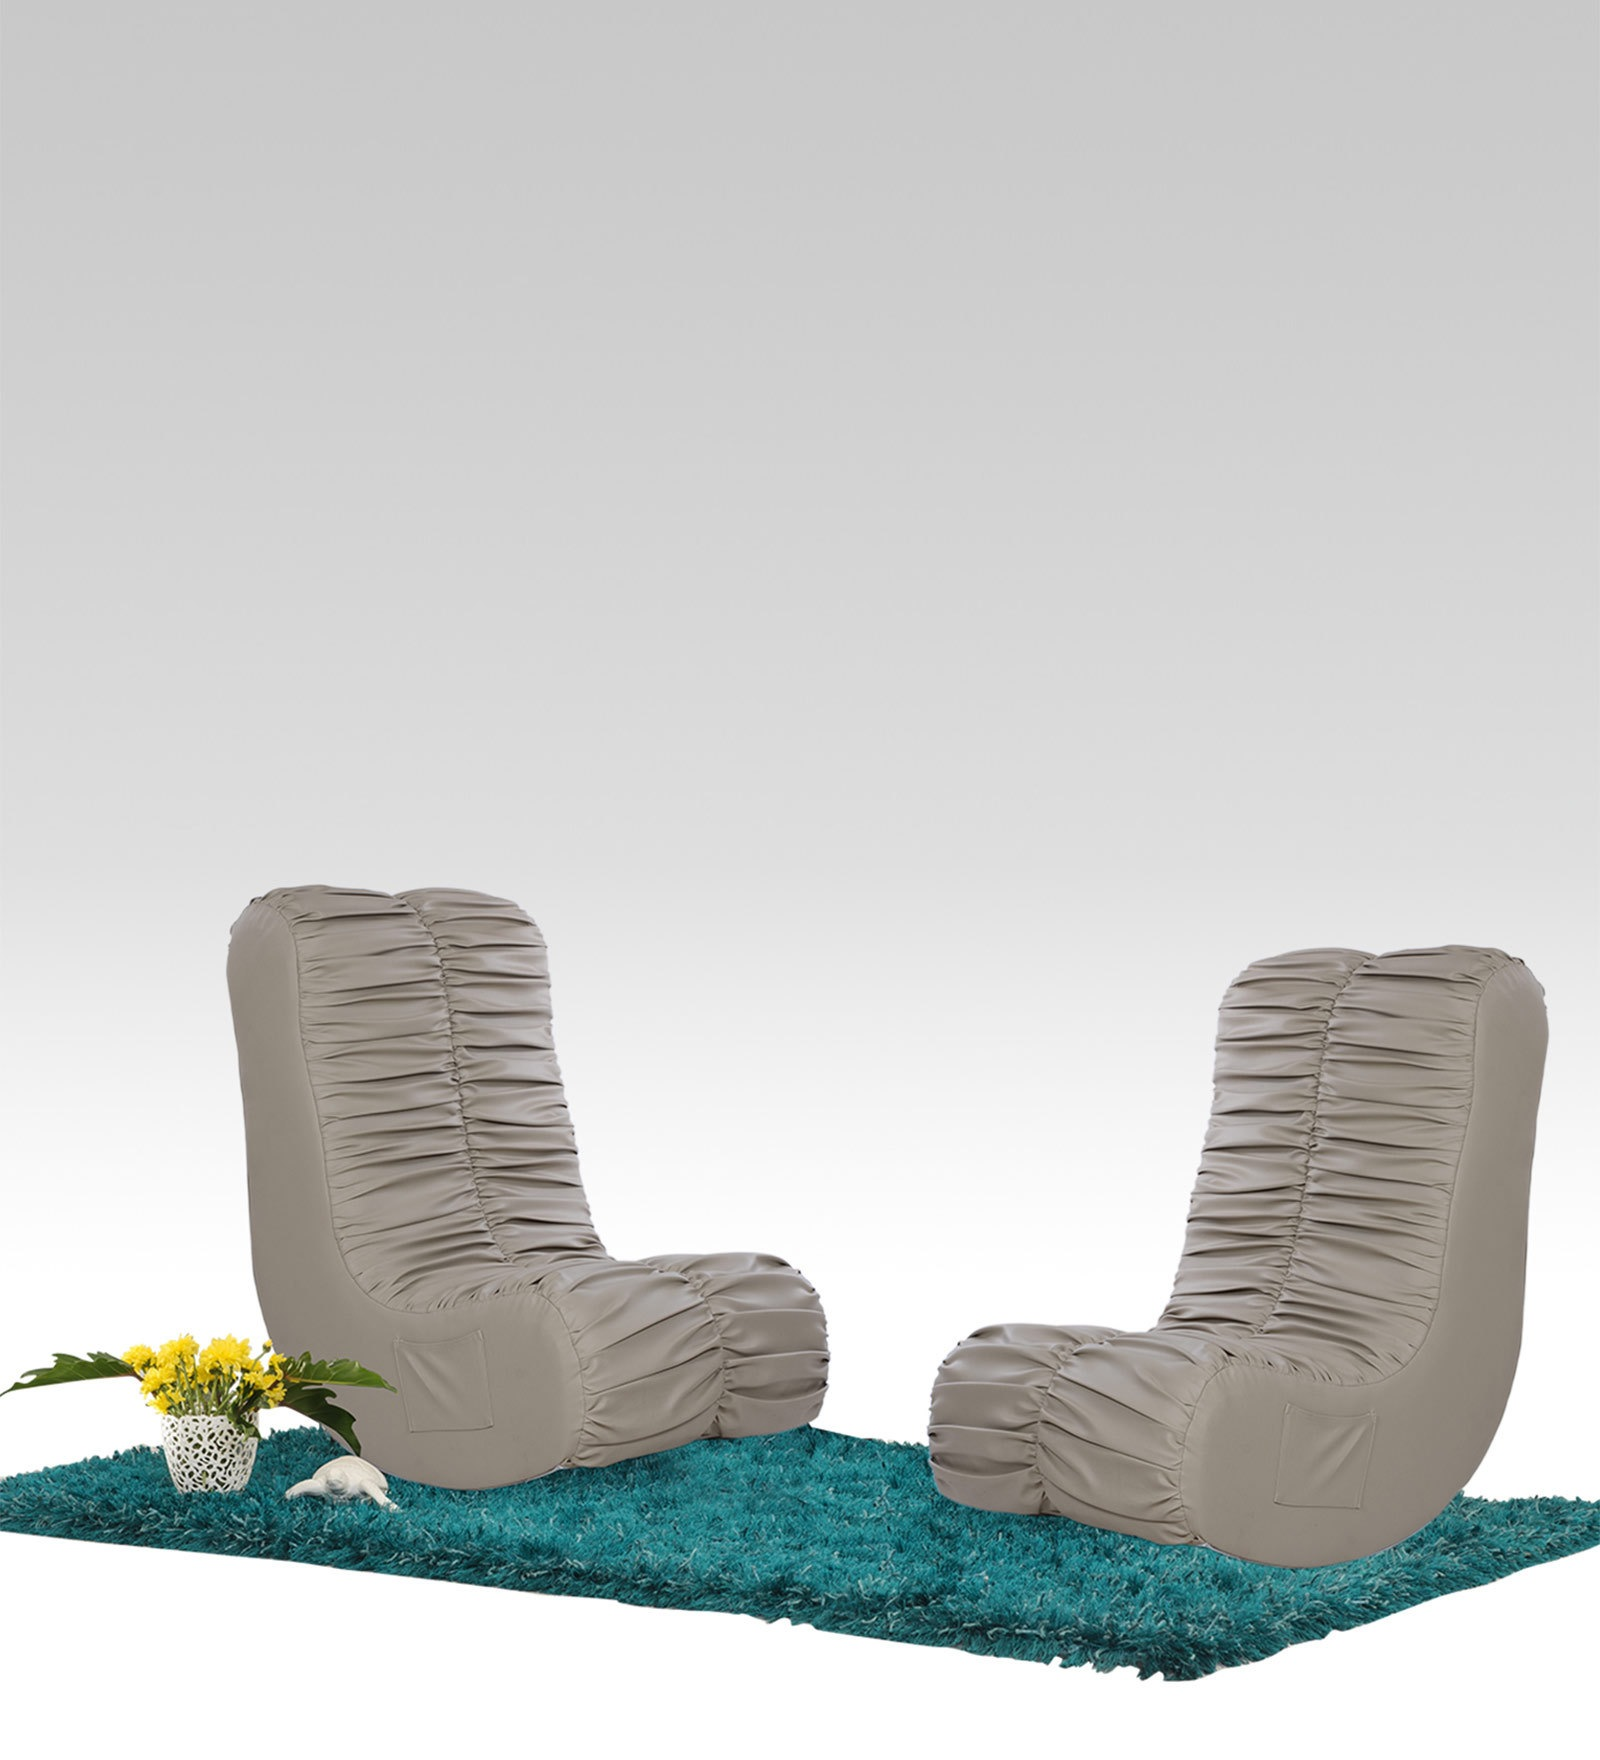Low Seat Rocking Chair in Beige Leatherette by Durian: (924, 885, 1542, 1578), (224, 872, 826, 1484)
